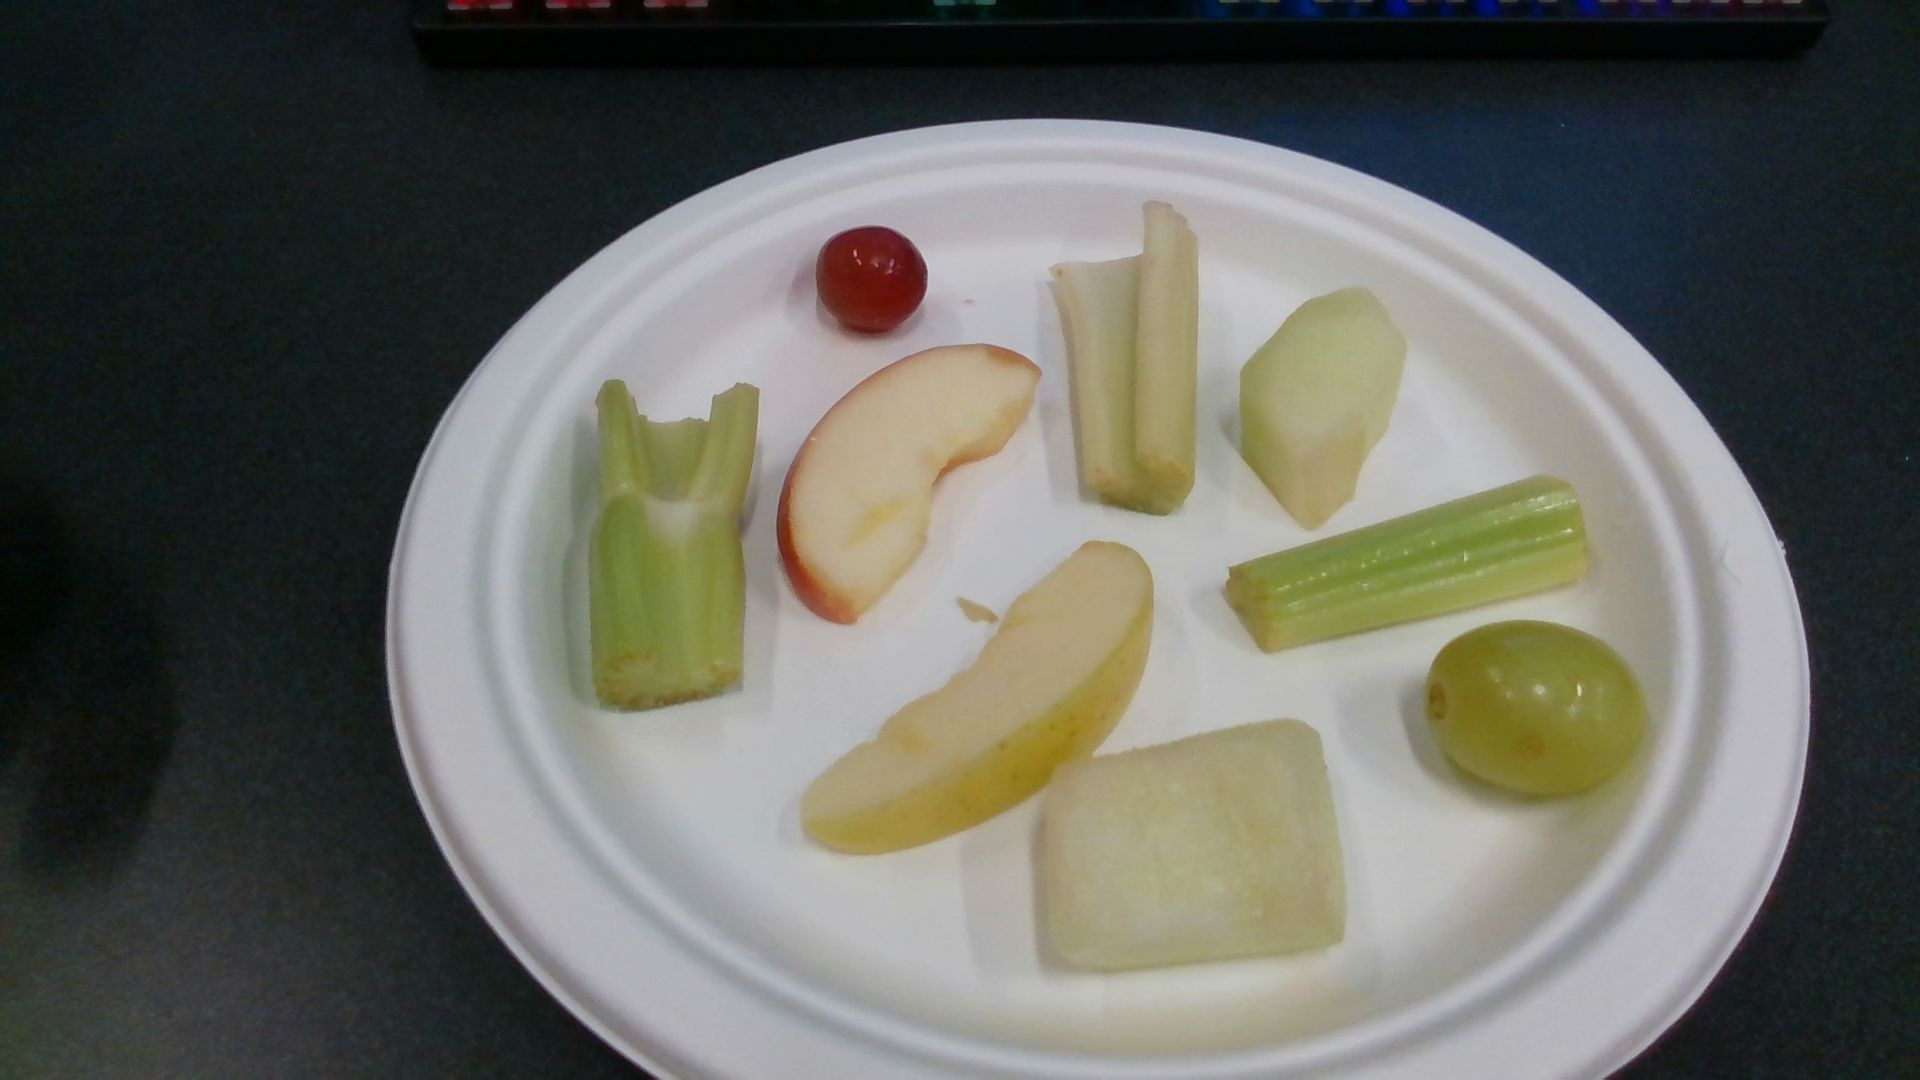apple: (804, 545, 1155, 851), (777, 343, 1039, 620)
cantalope: (1044, 723, 1344, 968), (1240, 287, 1404, 521)
celery: (1229, 476, 1585, 650), (592, 382, 760, 709), (1052, 203, 1197, 516)
grape_green: (1427, 621, 1644, 798)
grape_purple: (818, 225, 927, 334)
